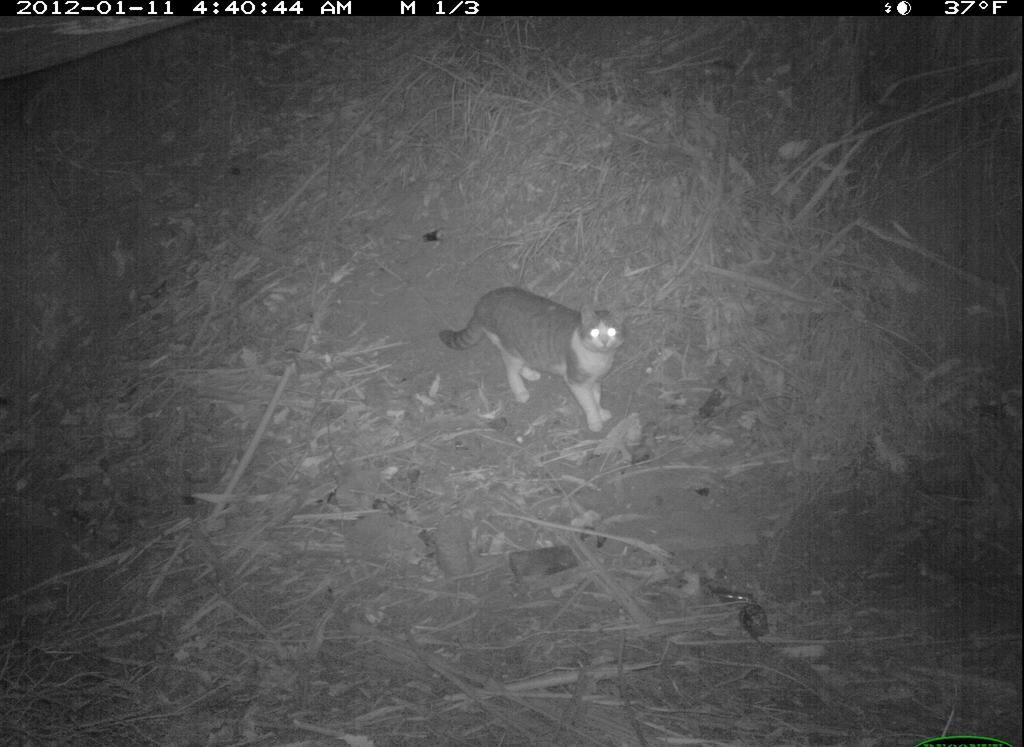cat: (434, 277, 642, 442)
